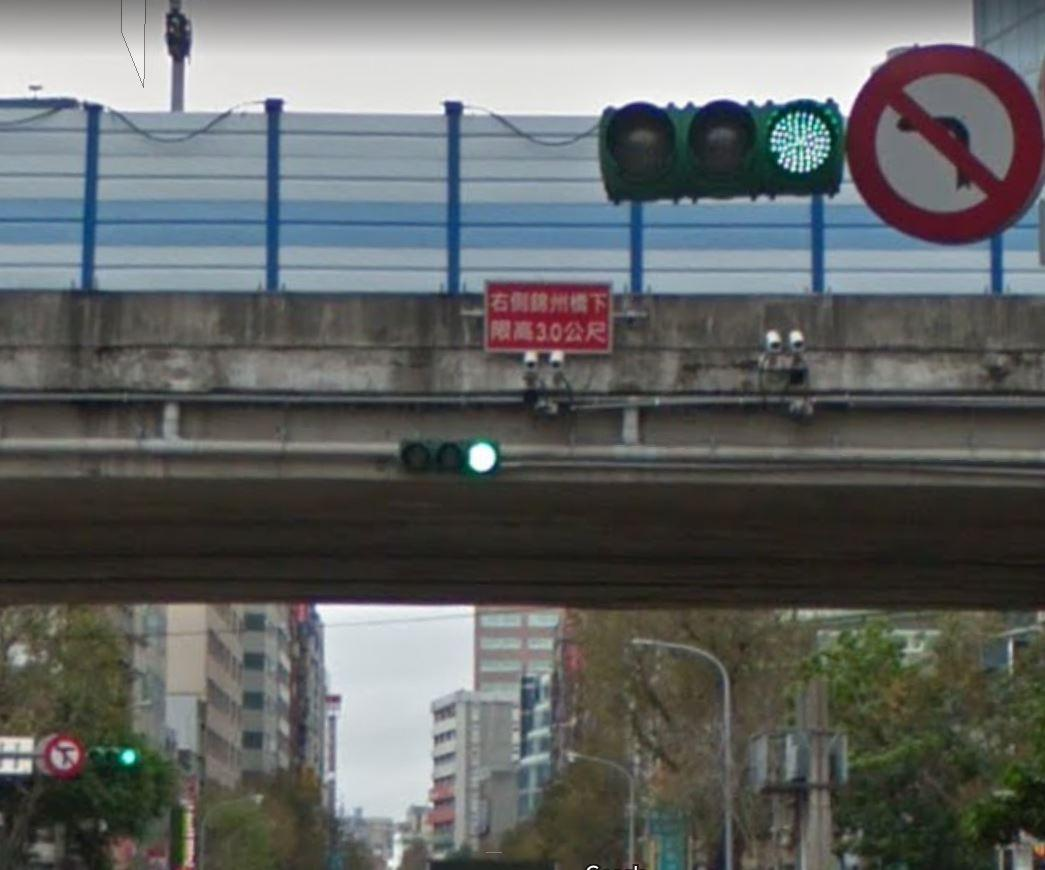green_traffic_light: (598, 97, 847, 200), (396, 435, 501, 478)
